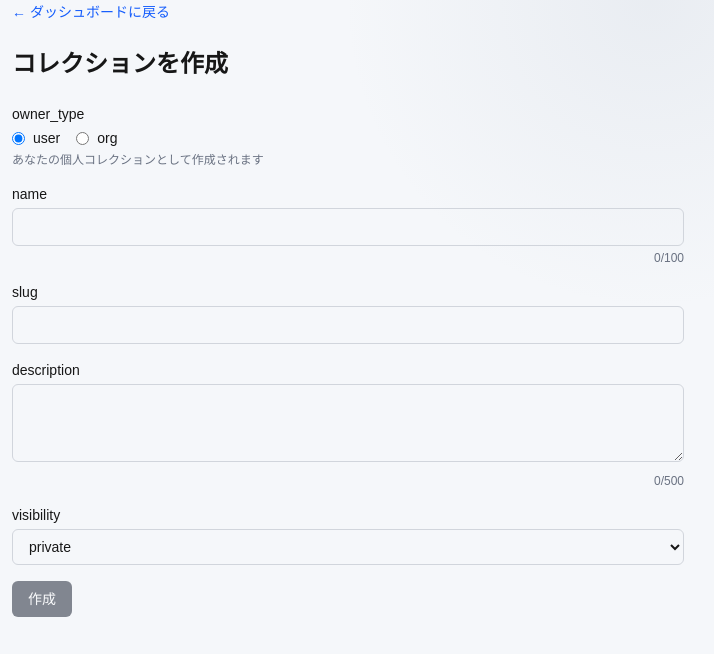
NewCollectionPage › marks taken slug status with decorative icon hidden from assistive tech
The image size is (714, 654).
Type "Lab Picks" into the field labelled "name". click: point(348, 227)
box: [12,208,684,246]
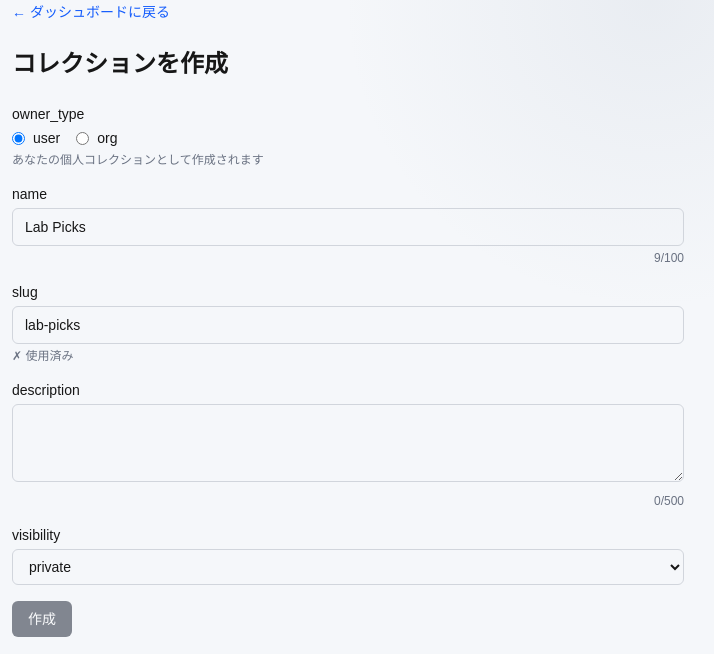
expect the button "作成" is disabled: met, box [12,601,72,637]
expect the text "✗" is shown: met, box [12,349,25,363]
